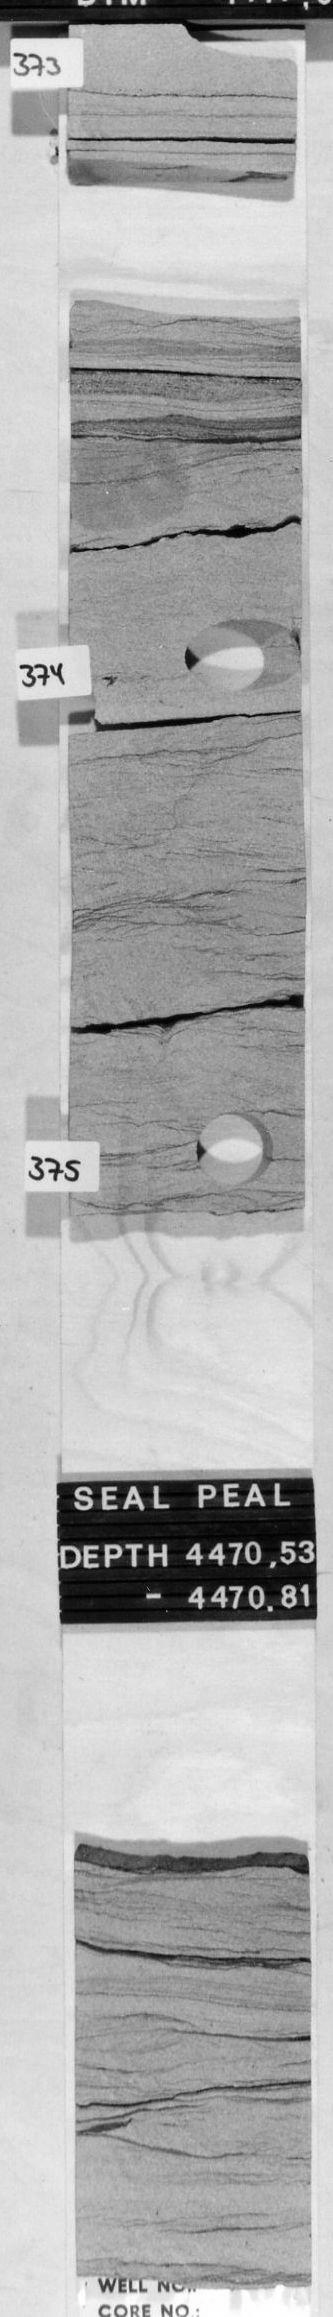hplug: (178, 607, 300, 695), (192, 1104, 280, 1194), (184, 25, 297, 72)
scal: (67, 149, 297, 337)
vplug: (110, 1116, 161, 1215)
